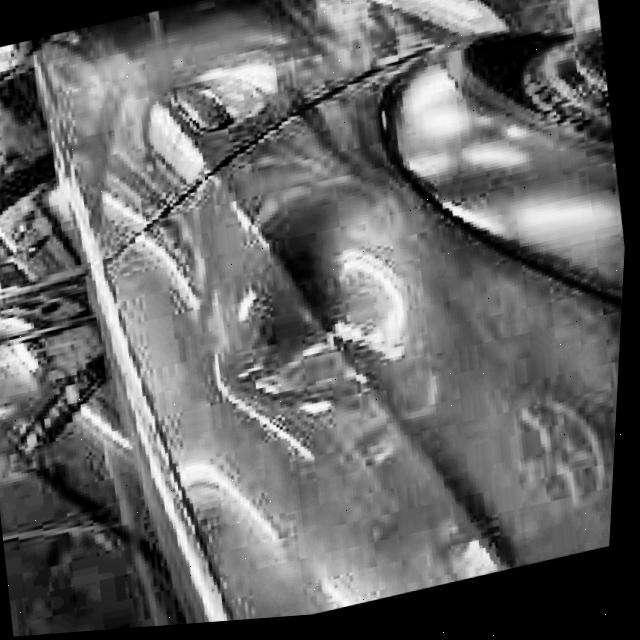door_dent: (203, 210, 426, 425)
